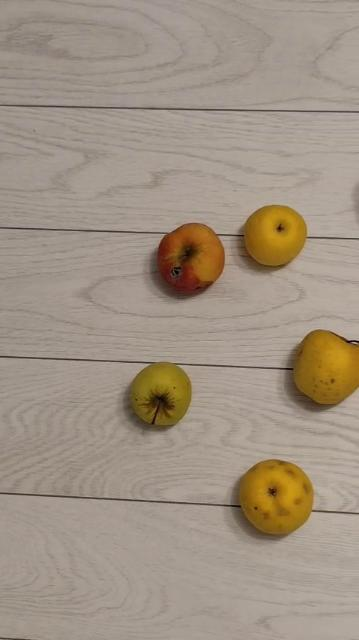apple_green: (236, 461, 313, 537), (292, 328, 358, 404), (242, 203, 308, 266), (131, 363, 193, 427)
apple_red: (157, 223, 225, 293)
